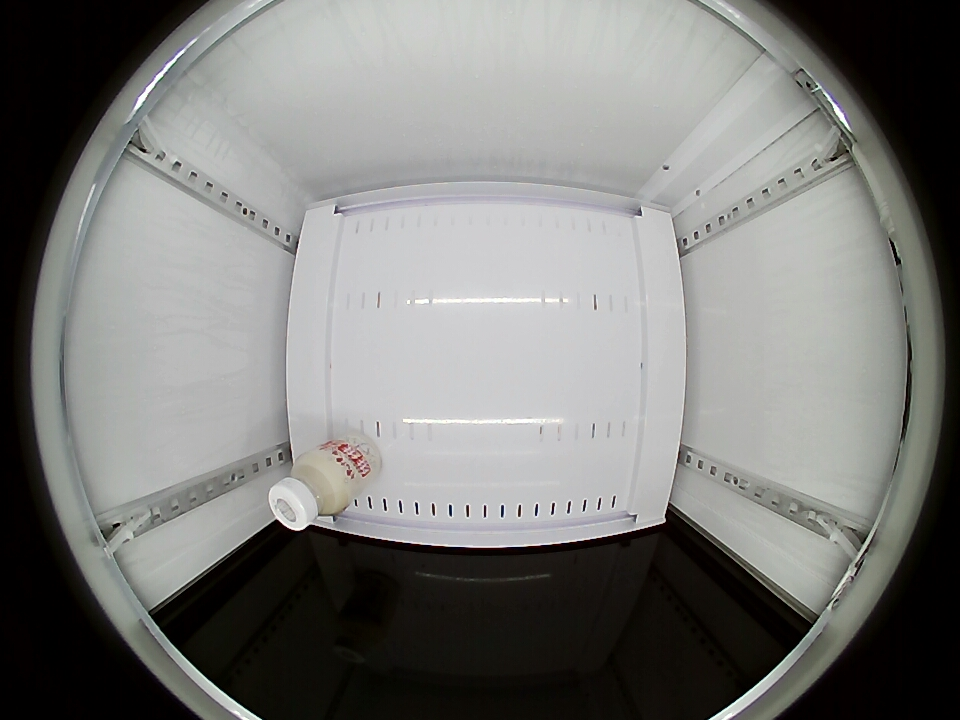weiweidounai: (268, 448, 352, 532)
